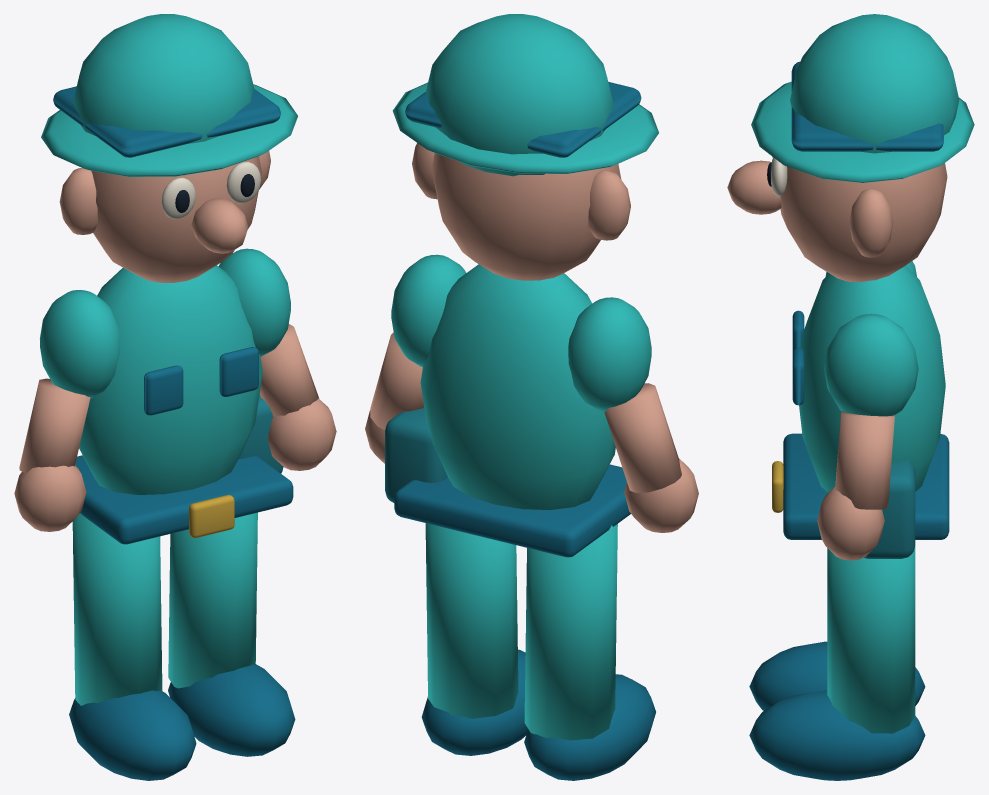
Rendered from wurstii-pitfall-harry.glb.
The picture shows the model from 3 angles, left to right: view 1: azimuth 30°, elevation 25°; view 2: azimuth 150°, elevation 25°; view 3: azimuth 270°, elevation 25°; orthographic projection. The views are drawn at different scales.
Visible parts, largest first — view 1: wurstii-pitfall-harry_geometry; view 2: wurstii-pitfall-harry_geometry; view 3: wurstii-pitfall-harry_geometry.
Part boxes in pixels (<box>): wurstii-pitfall-harry_geometry: <box>14,14,336,780</box>; wurstii-pitfall-harry_geometry: <box>365,14,698,780</box>; wurstii-pitfall-harry_geometry: <box>727,14,974,780</box>.
Size of the model in its own units: 0.401 by 0.88 by 0.2711.
